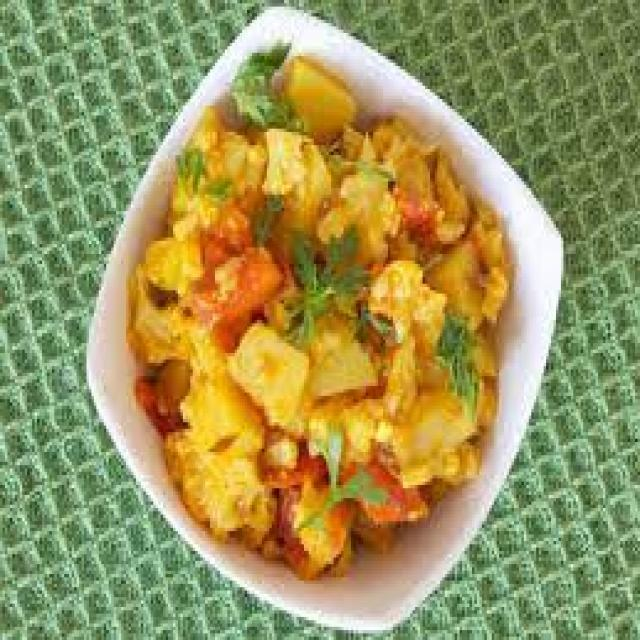Aloo Gobi: (174, 116, 464, 524)
